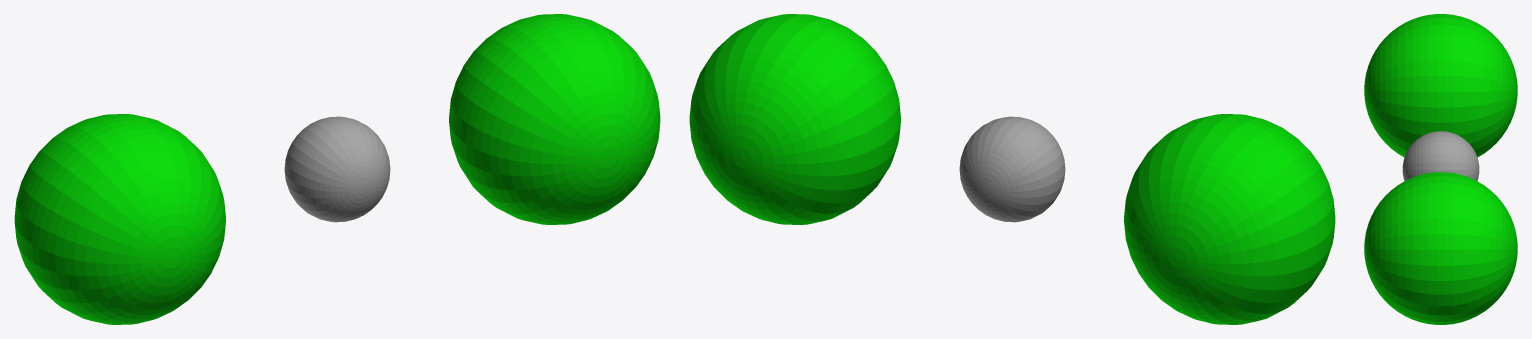
Rendered from Mercury(II) Chloride.glb.
3 renders of one model, left to right at view 1: azimuth 30°, elevation 25°; view 2: azimuth 150°, elevation 25°; view 3: azimuth 270°, elevation 25°, orthographic. The views are drawn at different scales.
Visible parts, largest first — view 1: world; view 2: world; view 3: world.
Part boxes in pixels (bbox=[...]): world: bbox=[14, 14, 660, 324]; world: bbox=[689, 14, 1335, 324]; world: bbox=[1364, 14, 1517, 324].
Bounding box in the file's own units: 6.74 × 2.05 × 2.
